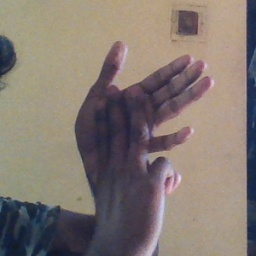M: (64, 38, 223, 220)
